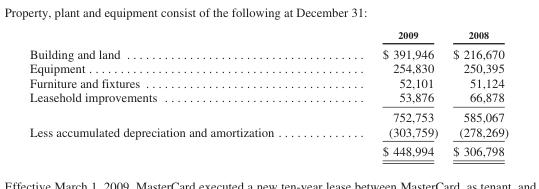table: (28, 28, 507, 157)
table column: (28, 28, 327, 157), (327, 28, 444, 157), (444, 28, 507, 157)
table column header: (28, 28, 507, 43)
table row: (28, 123, 507, 141), (28, 43, 507, 60), (28, 89, 507, 106), (28, 106, 507, 123), (28, 141, 507, 157), (28, 28, 507, 43), (28, 60, 507, 75), (28, 75, 507, 89)
